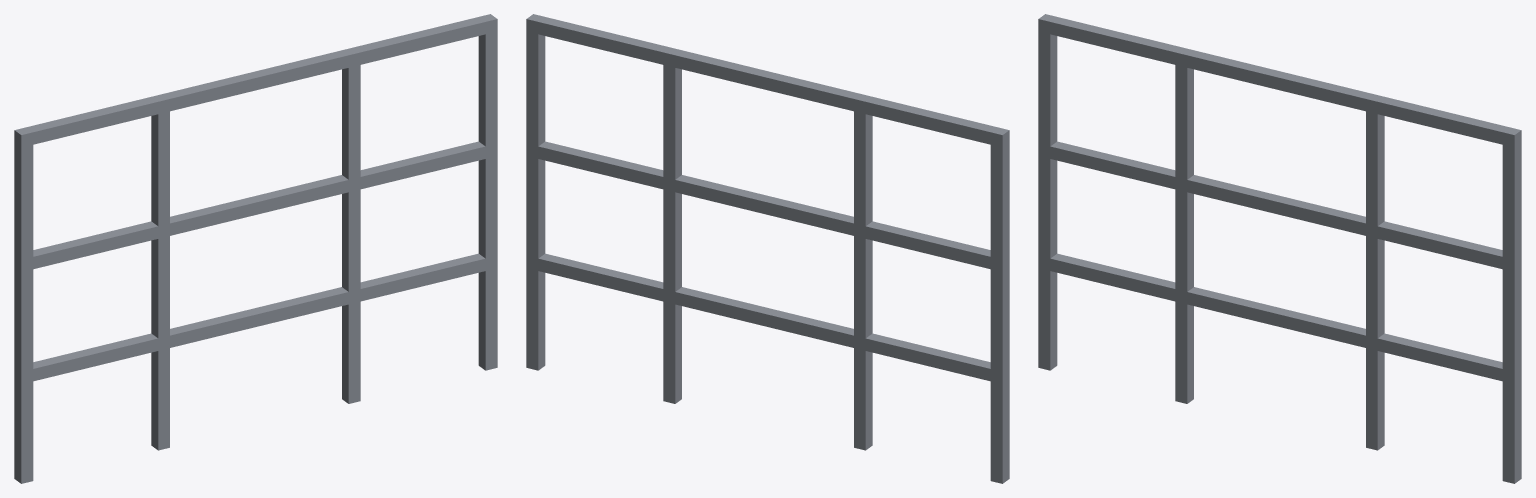
File: SM_fence_011_A.glb
3 renders of one model, left to right at view 1: azimuth 30°, elevation 25°; view 2: azimuth 150°, elevation 25°; view 3: azimuth 330°, elevation 25°, orthographic.
Parts seen in each view (by area): view 1: SM_fence_011_A; view 2: SM_fence_011_A; view 3: SM_fence_011_A.
Boxes of the visible parts, <box> form: SM_fence_011_A: <box>14,14,497,483</box>; SM_fence_011_A: <box>526,14,1009,483</box>; SM_fence_011_A: <box>1038,14,1521,483</box>.
Bounding box in the file's own units: 2 × 1.4 × 0.05.
1 material, 1 textured.
